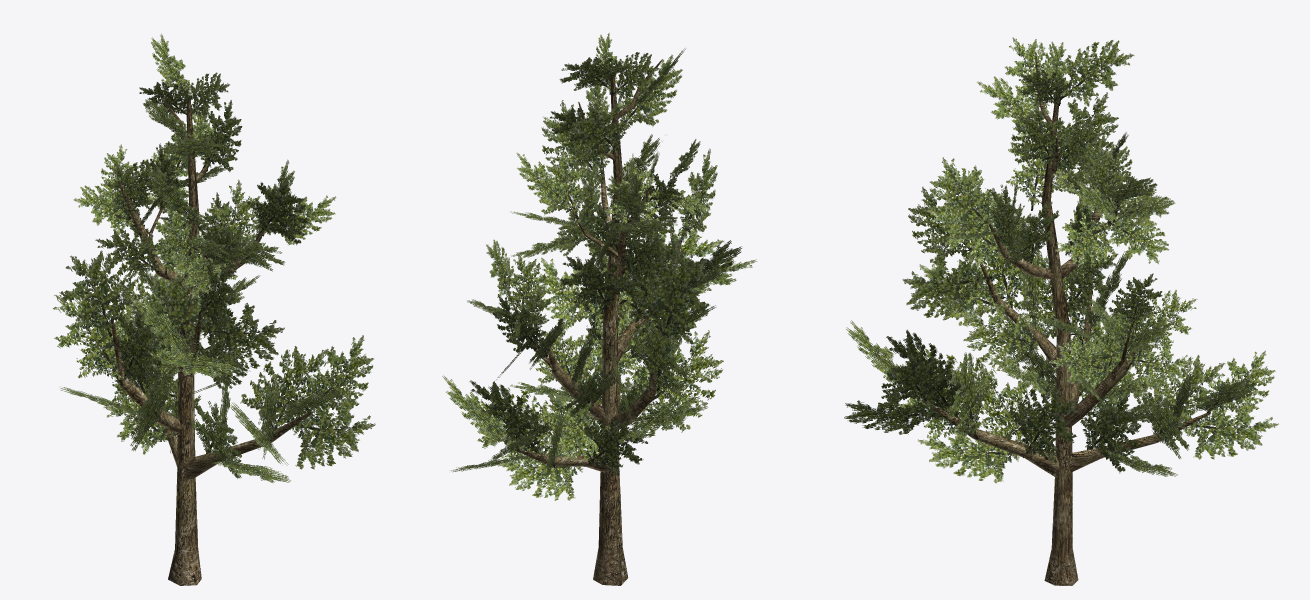
The model's file is boom.fbx.
The picture shows the model from 3 angles, left to right: view 1: azimuth 30°, elevation 25°; view 2: azimuth 150°, elevation 25°; view 3: azimuth 270°, elevation 25°; orthographic projection. The views are drawn at different scales.
Parts seen in each view (by area): view 1: boom_1; view 2: boom_1; view 3: boom_1.
Part boxes in pixels (x1,y1,x2,y2): boom_1: [52, 33, 375, 585]; boom_1: [442, 32, 757, 585]; boom_1: [844, 37, 1278, 585].
Bounding box in the file's own units: 6.2 × 12.26 × 9.71.
